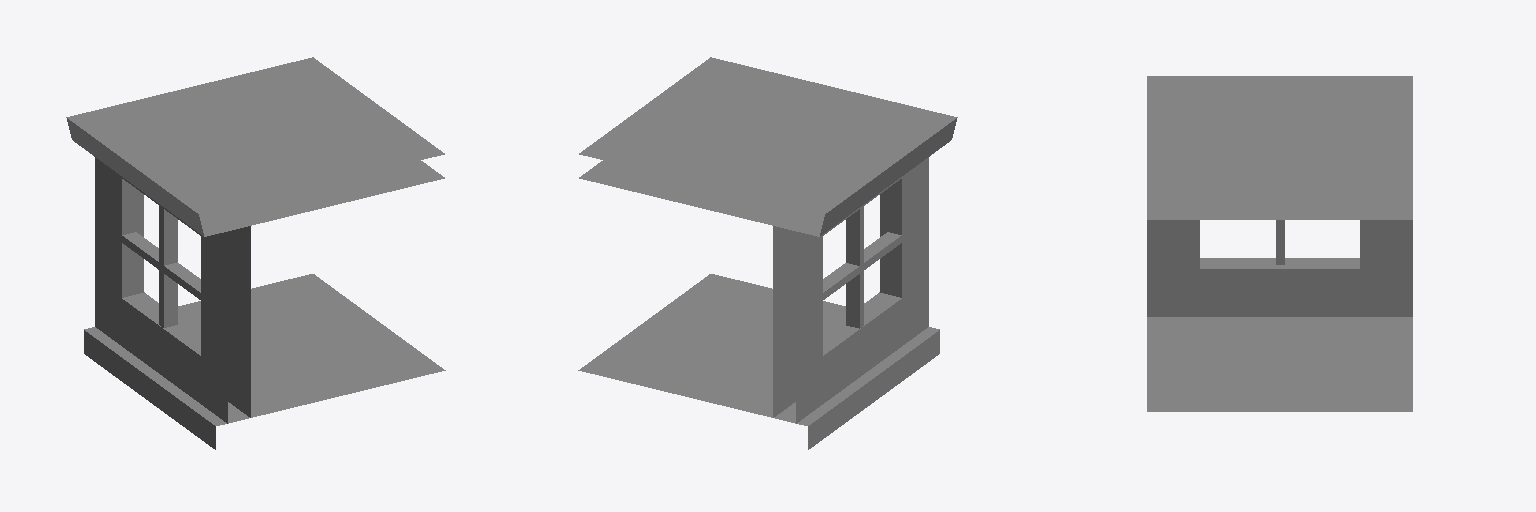
3 renders of one model, left to right at view 1: azimuth 30°, elevation 25°; view 2: azimuth 150°, elevation 25°; view 3: azimuth 270°, elevation 25°, orthographic.
Parts seen in each view (by area): view 1: objobjobjRegroup09; view 2: objobjobjRegroup09; view 3: objobjobjRegroup09.
Boxes of the visible parts, <box> form: objobjobjRegroup09: <box>66,57,445,449</box>; objobjobjRegroup09: <box>578,57,957,449</box>; objobjobjRegroup09: <box>1147,76,1412,411</box>.
Bounding box in the file's own units: 10.75 × 10 × 10.